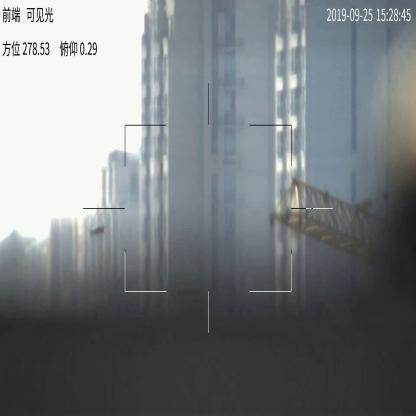uav: (90, 225, 104, 238)
